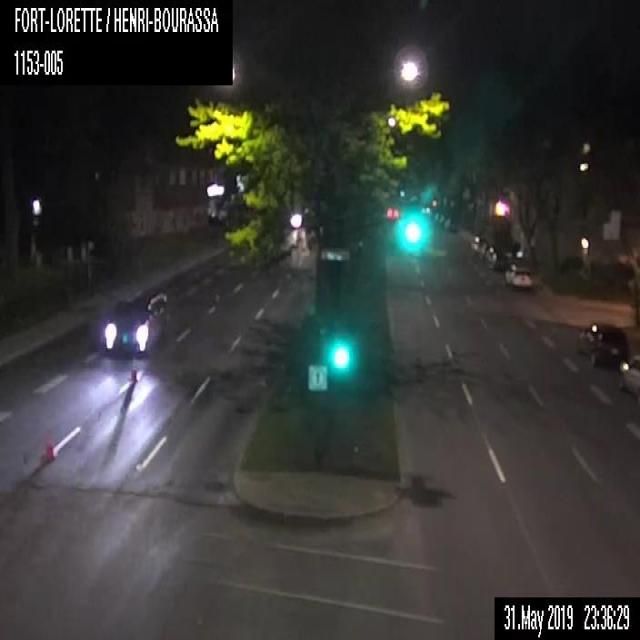construction: (42, 427, 51, 461), (130, 361, 138, 384)
vehicle: (99, 284, 166, 357), (577, 320, 629, 370), (620, 355, 639, 404), (504, 263, 535, 288), (486, 244, 508, 272), (470, 233, 488, 256), (444, 215, 456, 233)
